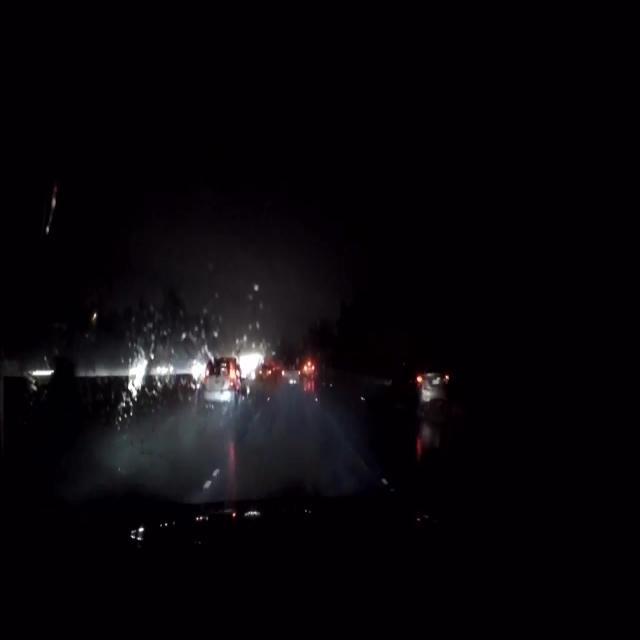Car: (396, 362, 444, 407), (202, 353, 243, 403)
